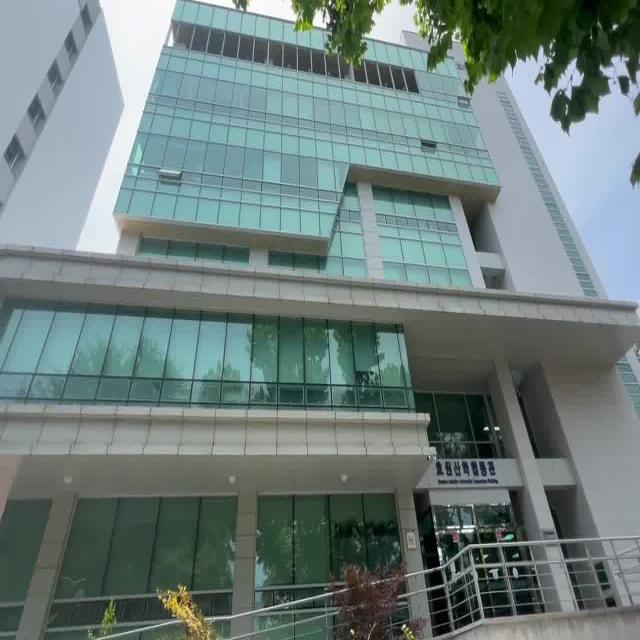building: (121, 72, 609, 581)
